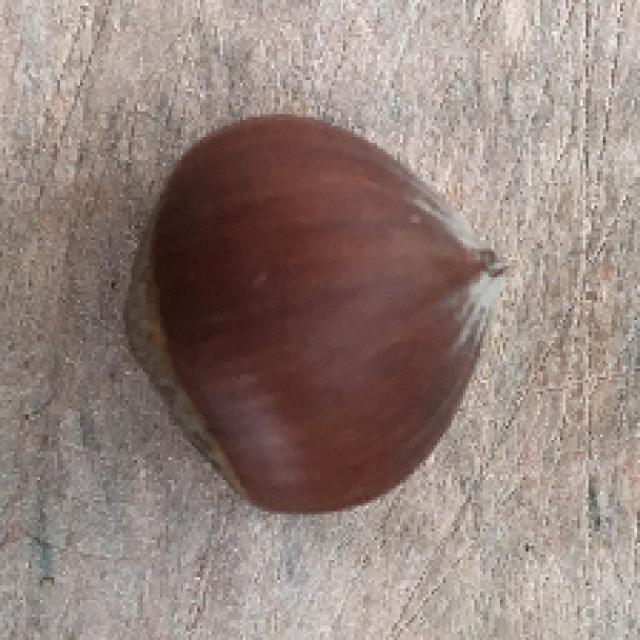damagedHazelnut: (124, 107, 518, 536)
